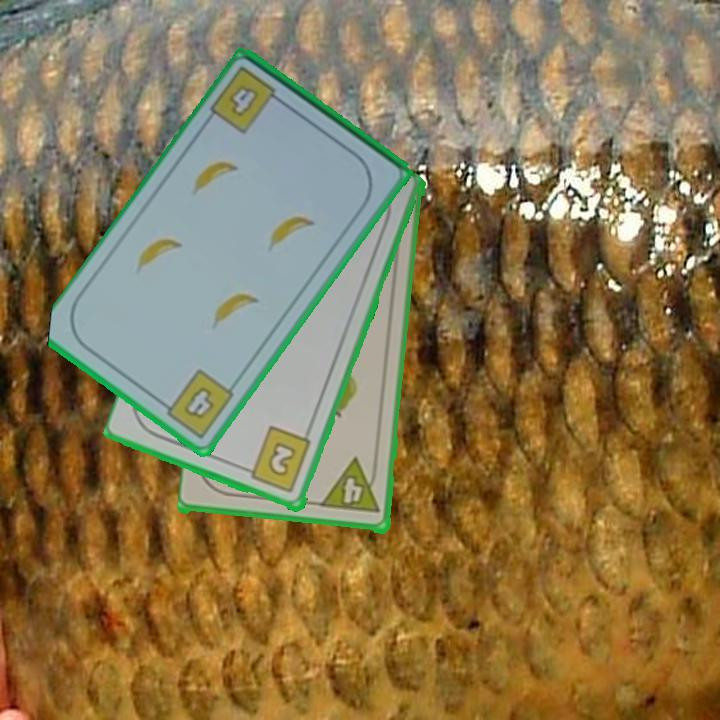2b: (239, 424, 314, 496)
4b: (156, 365, 238, 442), (207, 63, 289, 137)
4p: (318, 456, 384, 517)
